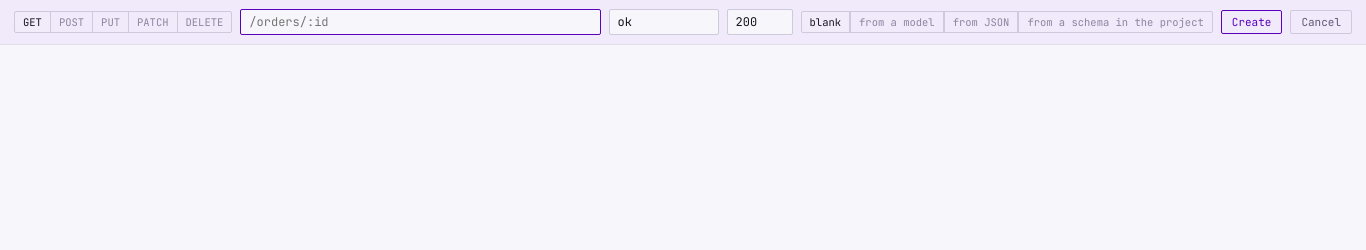
Test: creating from a schema in the project › says what a path is relative to, so it is not discovered by being wrong
The image size is (1366, 250).
What coordinates should you click on to do the following:
click the button "from a schema in the project"
I would click on:
 (1115, 22)
Its box is [1018,12,1212,32].
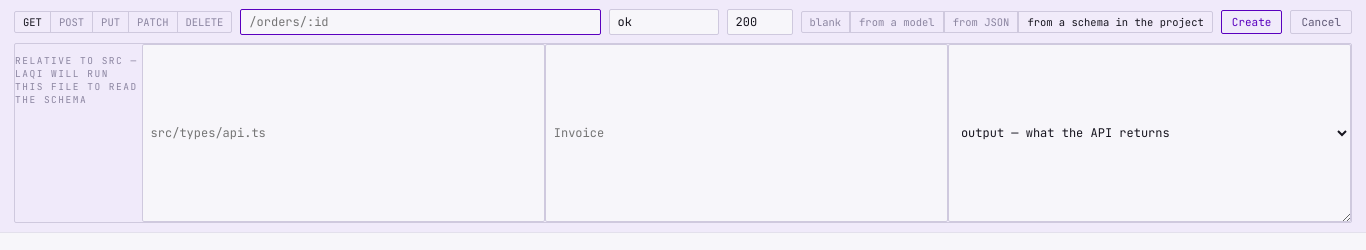
Now the text "relative to src — laqi will run this file to read the schema" is shown, box [15,54,138,106]
